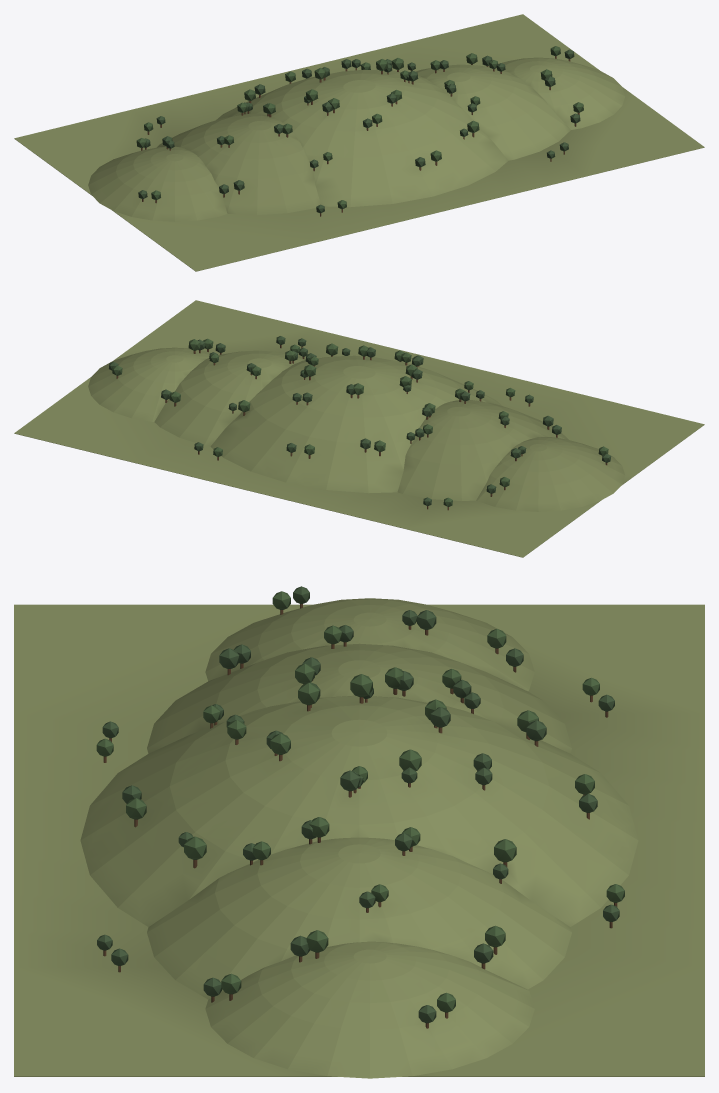
File: jingshan-1450.glb
3 renders of one model, top to bottom at view 1: azimuth 30°, elevation 25°; view 2: azimuth 150°, elevation 25°; view 3: azimuth 270°, elevation 25°, orthographic. The views are drawn at different scales.
Visible parts, largest first — view 1: p0_hill, p2_trees; view 2: p0_hill, p2_trees; view 3: p0_hill, p2_trees.
Part boxes in pixels (x1,y1,x2,y2): p0_hill: [14, 14, 704, 271]; p2_trees: [136, 46, 583, 216]; p0_hill: [14, 300, 704, 557]; p2_trees: [109, 336, 611, 510]; p0_hill: [14, 598, 704, 1078]; p2_trees: [96, 586, 624, 1028].
Size of the model in its own units: 424 by 51.87 by 260.
